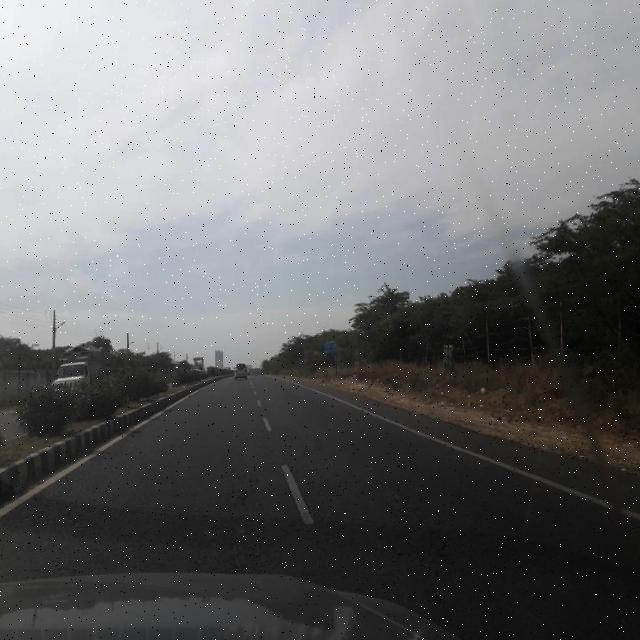D00: (379, 487, 458, 569)
